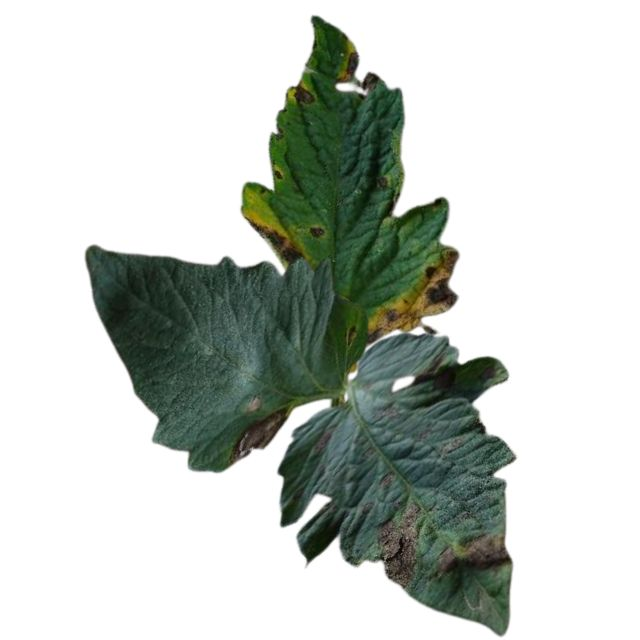Early_blight: (356, 248, 458, 345), (226, 402, 290, 469), (428, 526, 513, 576), (376, 498, 422, 588), (239, 216, 305, 264), (341, 48, 381, 91), (290, 81, 316, 106), (307, 220, 324, 238)
